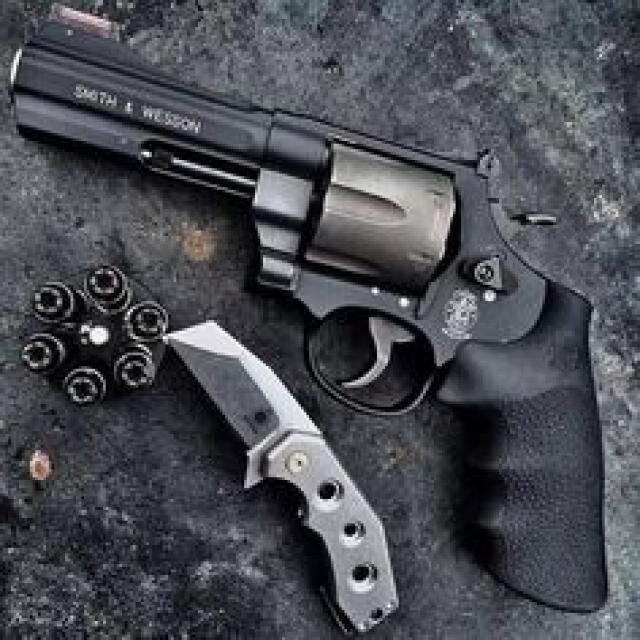revolver: (7, 3, 620, 624)
